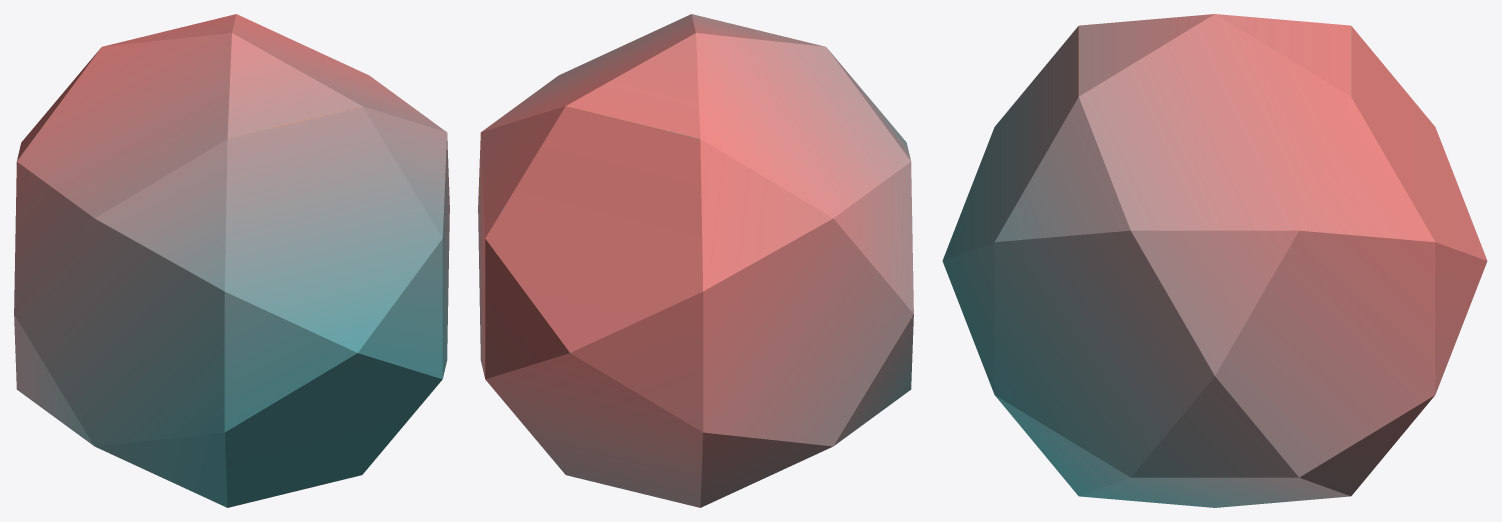
File: Icosidedocahedron.glb
The picture shows the model from 3 angles, left to right: view 1: azimuth 30°, elevation 25°; view 2: azimuth 150°, elevation 25°; view 3: azimuth 270°, elevation 25°; orthographic projection. The views are drawn at different scales.
Visible parts, largest first — view 1: Icosidodecahedron; view 2: Icosidodecahedron; view 3: Icosidodecahedron.
Part boxes in pixels (box(x1,y1,x2,y2)): Icosidodecahedron: box(14, 14, 449, 507); Icosidodecahedron: box(478, 14, 913, 507); Icosidodecahedron: box(942, 14, 1487, 507).
Bounding box in the file's own units: 1.76 × 1.76 × 1.76.
1 material, 1 textured.
